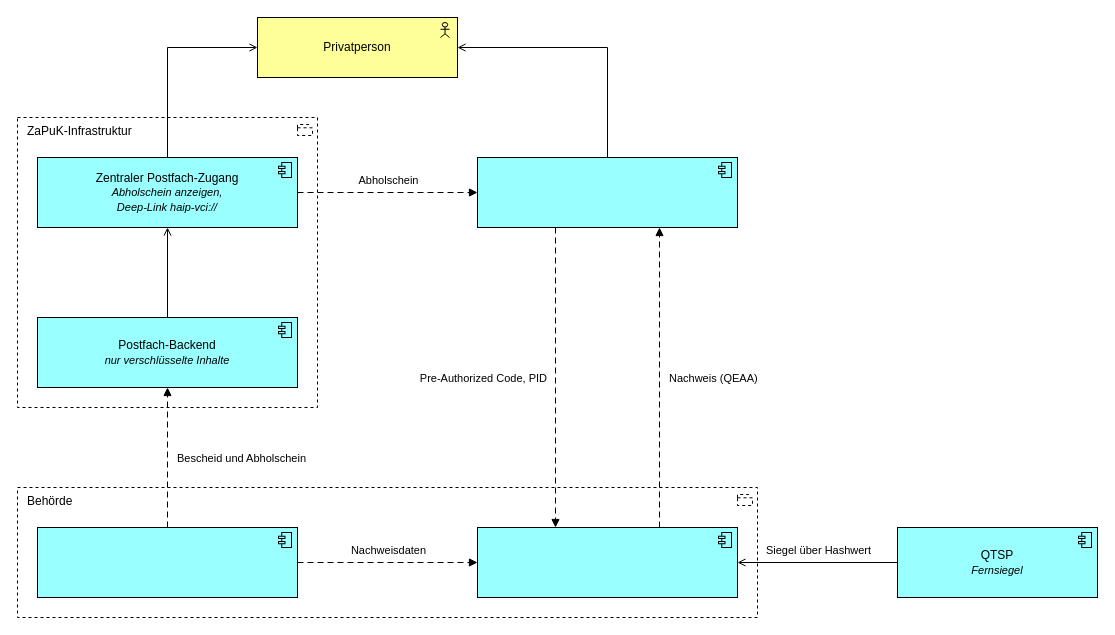
Some shapes in this 1115 by 635 pixel diagram are drawn without their labels. The shapes that lost their labels are listed below. From the top down, each one's centre as x and y in pixels, then its label:
At point (607, 192): "EUDI-Wallet PID, Schlüssel für Holder-Binding".
At point (167, 562): "Fachverfahren Bescheid, Nachweisdaten".
At point (607, 562): "Wallet-Adapter (Issuer) öffentlicher Endpunkt für OID4VCI".
